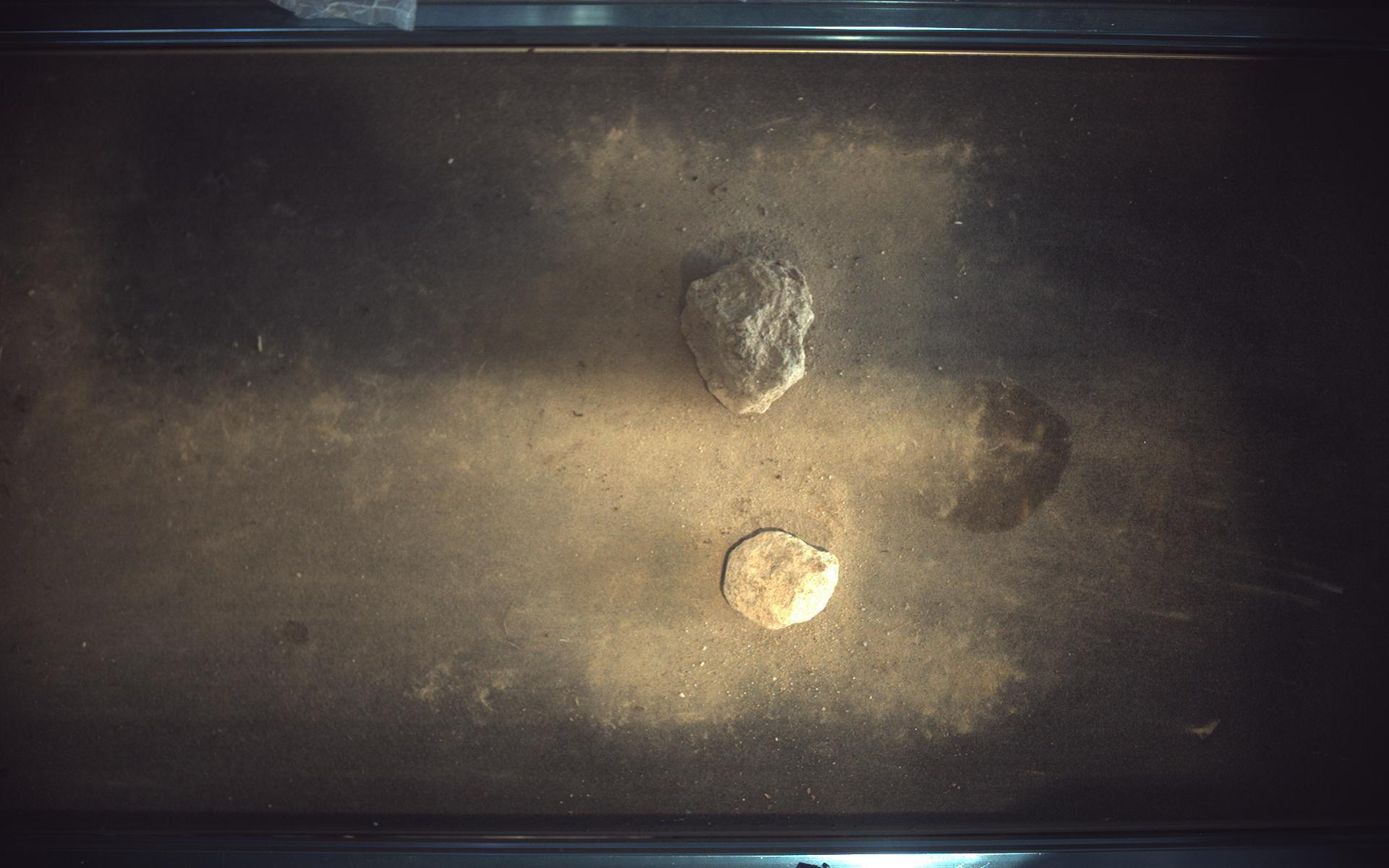stone: (682, 256, 815, 414), (723, 531, 841, 630)
